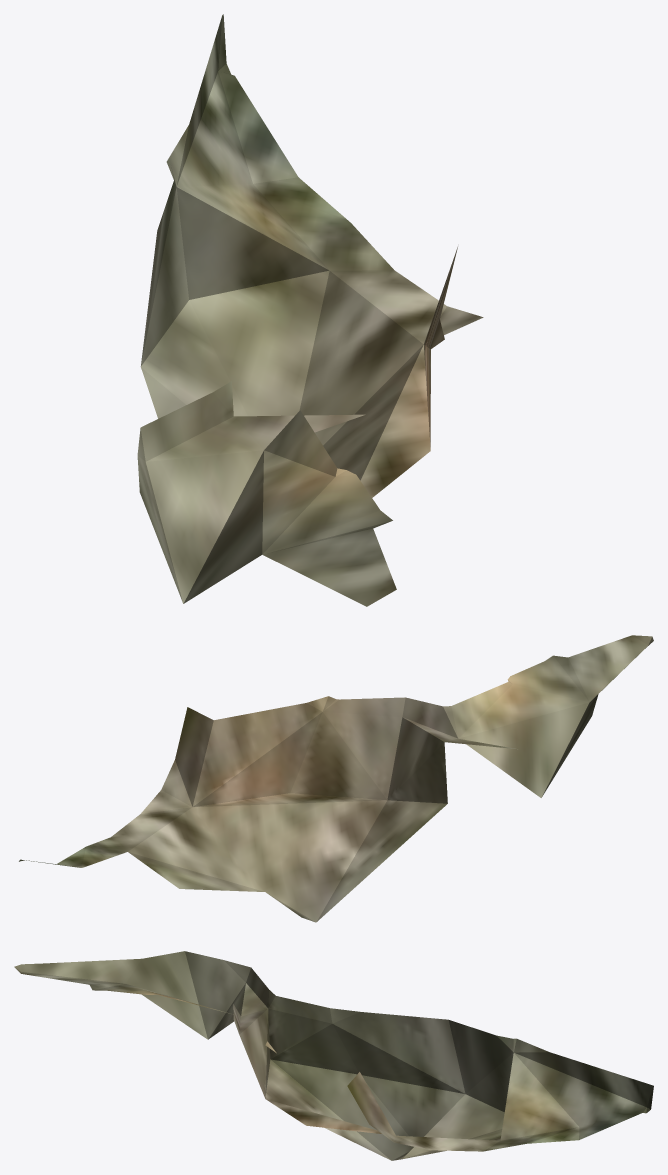
3 views of the same model, one above another, from view 1: azimuth 30°, elevation 25°; view 2: azimuth 150°, elevation 25°; view 3: azimuth 270°, elevation 25° (orthographic). The views are drawn at different scales.
Size of the model in its own units: 0.8002 by 0.3906 by 1.6.
Materials: 1 (1 with a texture image).
